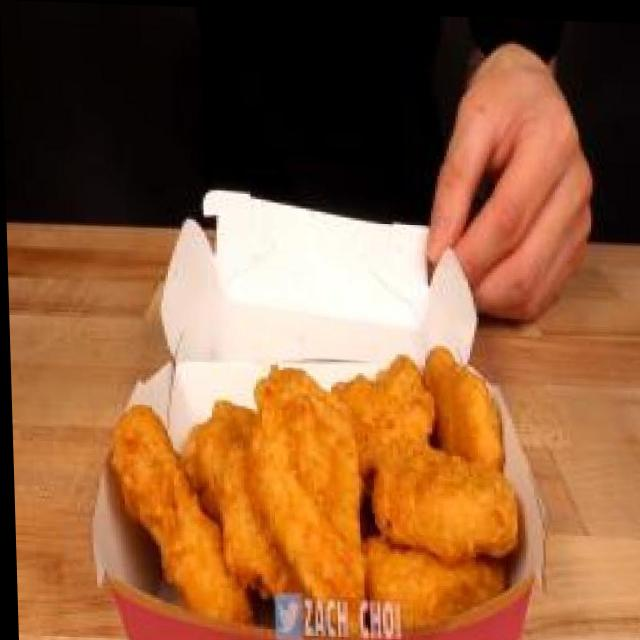nugget: (97, 298, 518, 640)
